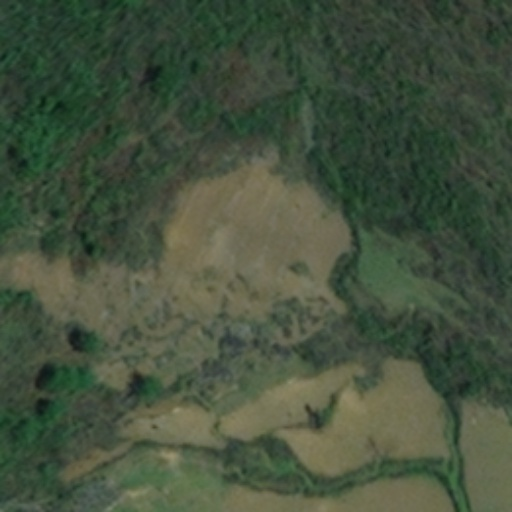landslide: (158, 156, 357, 307)
